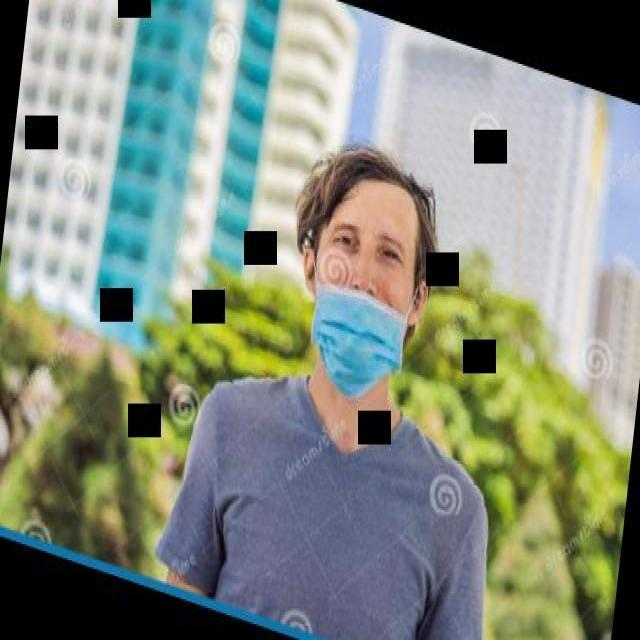hairnet: (318, 264, 412, 384)
